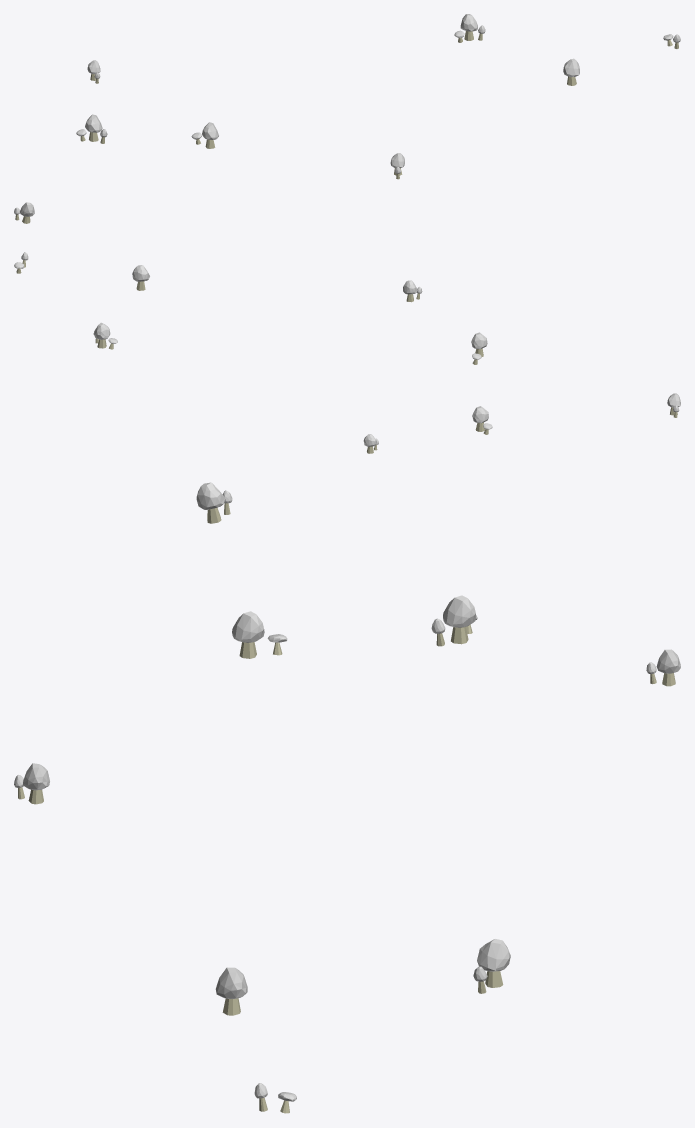
Rendered from Mushroom.fbx.
The picture shows the model from 3 angles, top to bottom: view 1: azimuth 30°, elevation 25°; view 2: azimuth 150°, elevation 25°; view 3: azimuth 270°, elevation 25°; orthographic projection. The views are drawn at different scales.
Parts seen in each view (by area): view 1: Cube.072, Cube.056; view 2: no part large enough to name; view 3: Cube.056, Cube.053, Cube.072, Cube.046.
Boxes of the visible parts, <box> form: Cube.072: <box>563,58,579,85</box>; Cube.056: <box>460,14,477,40</box>; Cube.056: <box>477,939,510,987</box>; Cube.053: <box>443,595,476,644</box>; Cube.072: <box>215,967,247,1015</box>; Cube.046: <box>232,611,264,658</box>.
Bounding box in the file's own units: 3346 × 212 × 1563.
